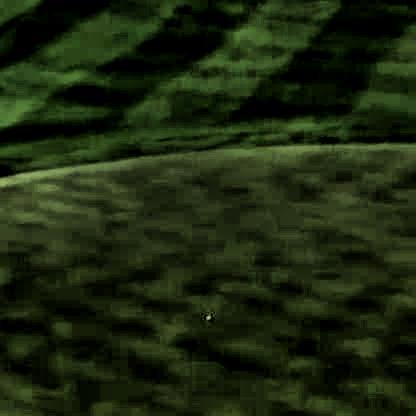golfball: (203, 312, 210, 317)
